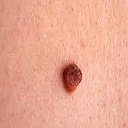Melanoma: (61, 61, 87, 93)
